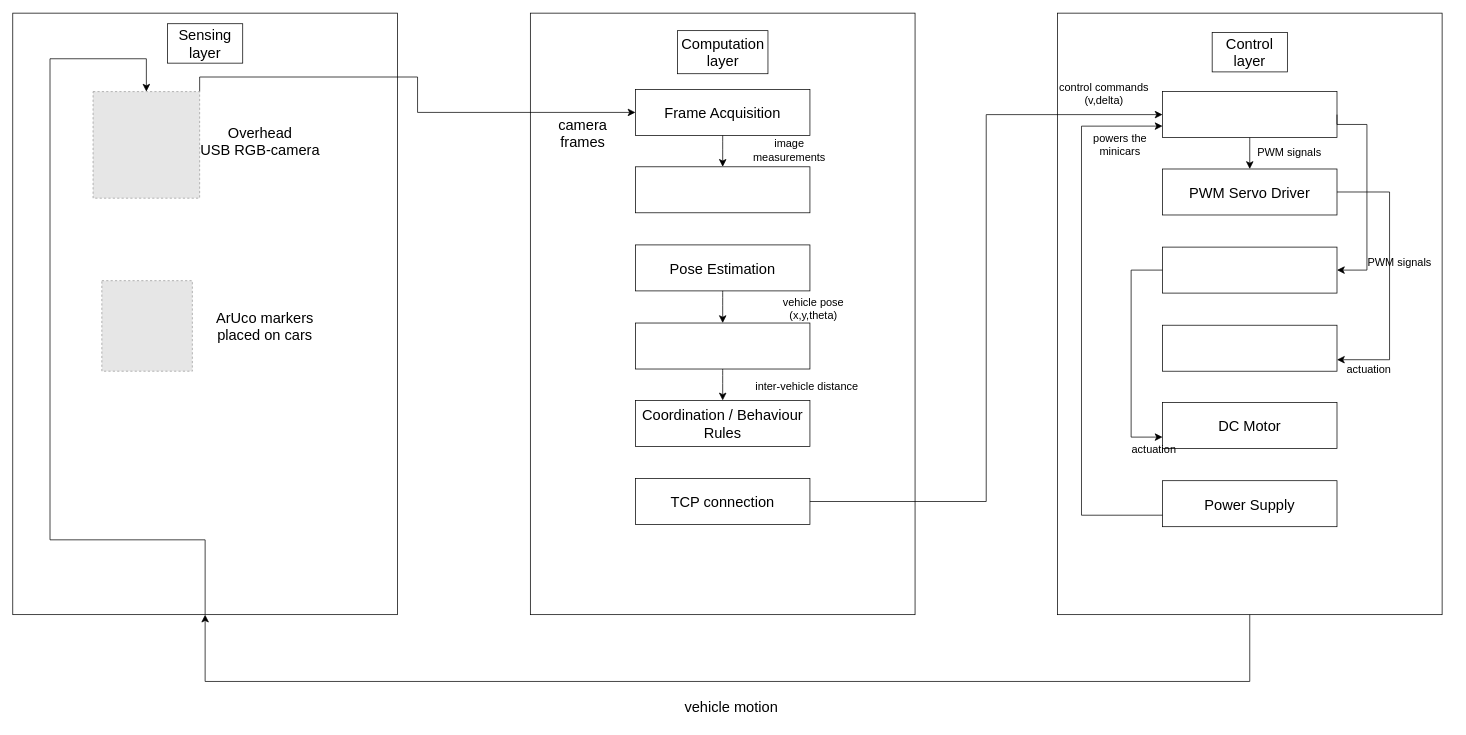
This 1466x735 diagram has some shape labels left out. Grey dashed boxes stand in for pictures. The shapes that lost their labels are listed below. From the top down, each one's box as (x1, y1, x2, y2) in pixels, then its label:
(1162, 91, 1337, 138): Onboard Microcontroller
(635, 166, 810, 213): Marker Detection
(1162, 246, 1337, 293): Motor Driver
(635, 322, 810, 369): Distance Computation
(1162, 324, 1337, 371): Steering servo
